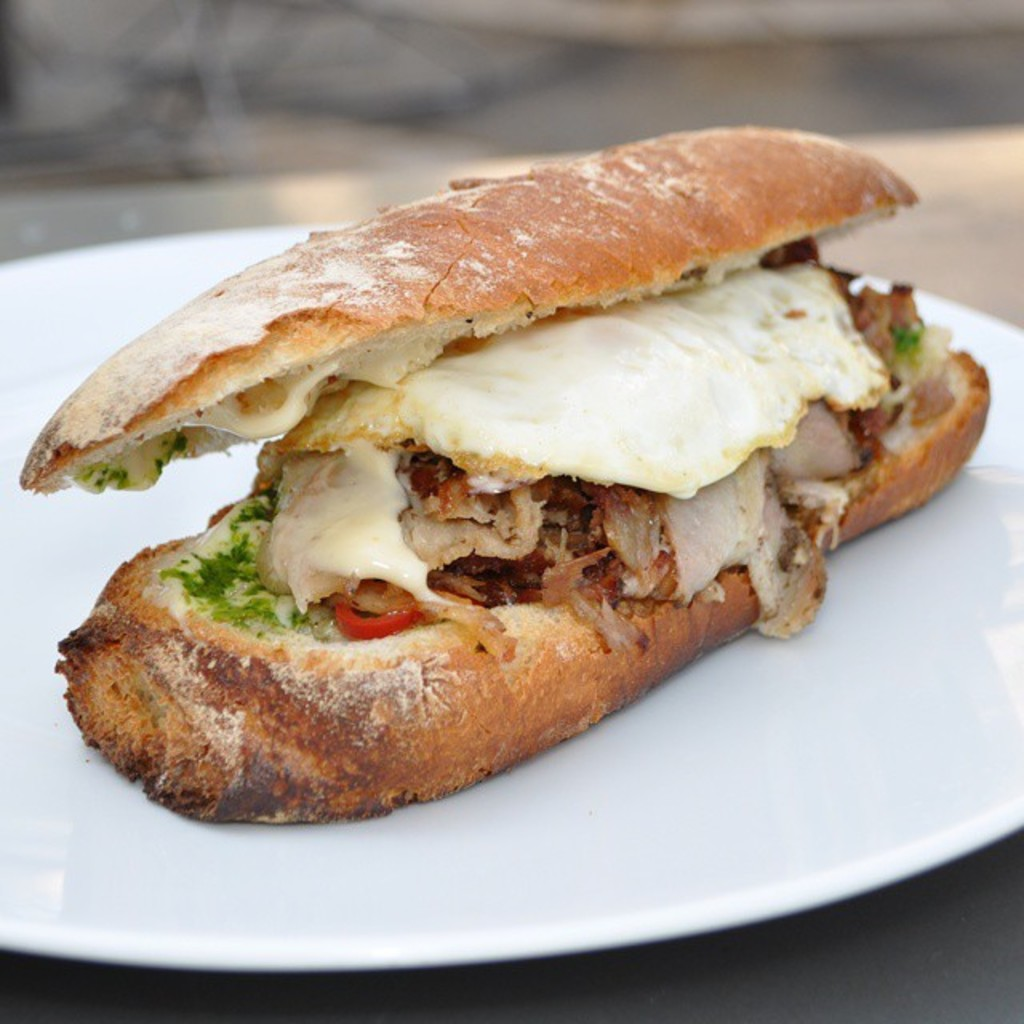sandwich: (18, 123, 990, 830)
